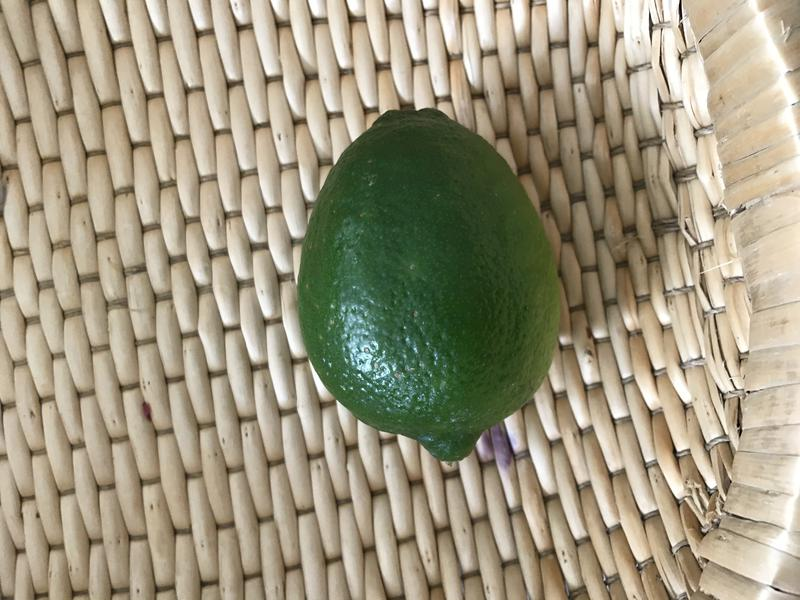lime: (279, 96, 571, 475)
